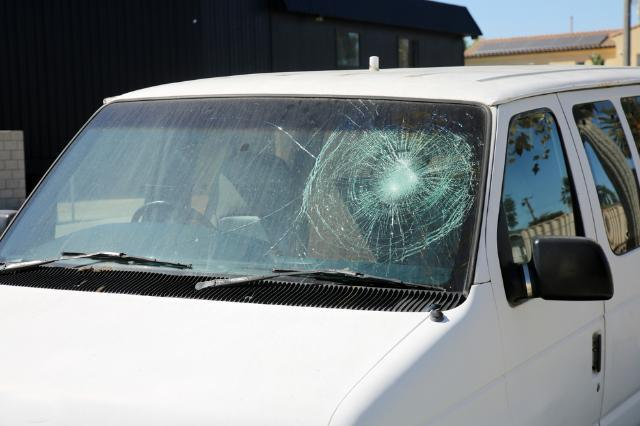Windshield: (246, 99, 470, 300)
